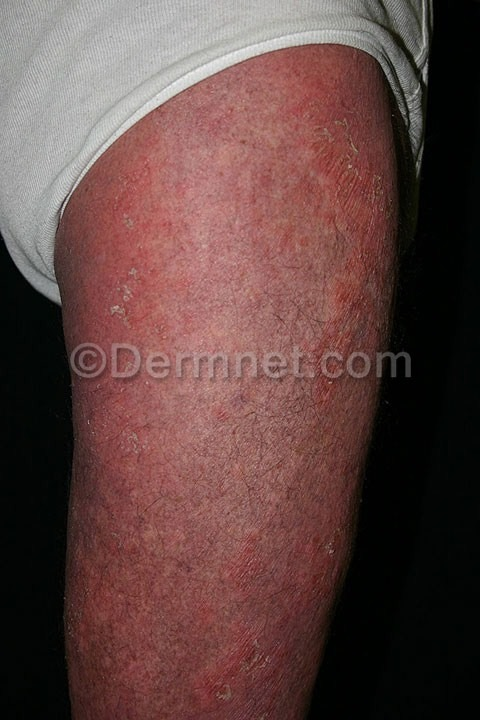Psoriasis: (295, 98, 388, 405), (179, 513, 317, 711), (95, 170, 184, 345), (84, 393, 169, 538)
